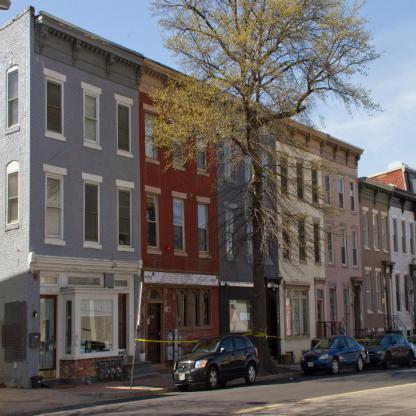Car: (170, 328, 261, 392), (301, 333, 367, 374), (368, 330, 416, 369)
